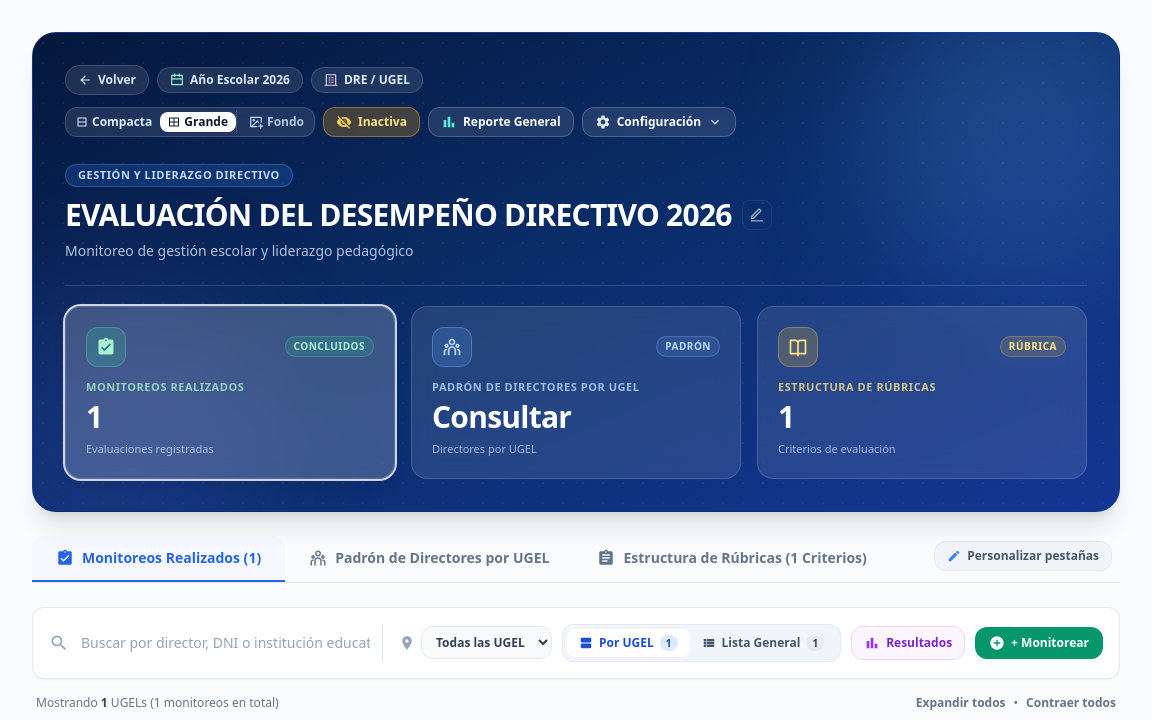
EvaluacionDetalleDirectorContainer › allows searching within Monitoreos Realizados tab
In the field with placeholder "Buscar por director, DNI o institución educativa...": (226, 642) [81, 632, 370, 652], type "Inexistente"
(page scrolled)
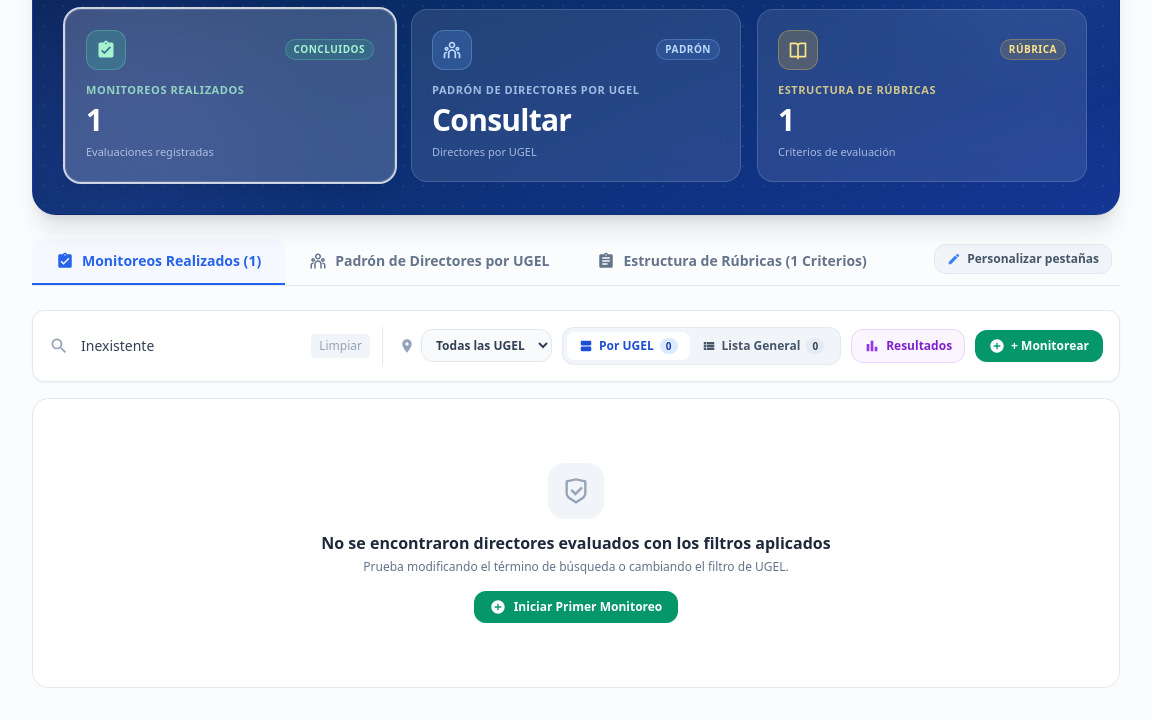
Result: the heading "No se encontraron directores evaluados" is shown at [321, 532, 831, 554]
